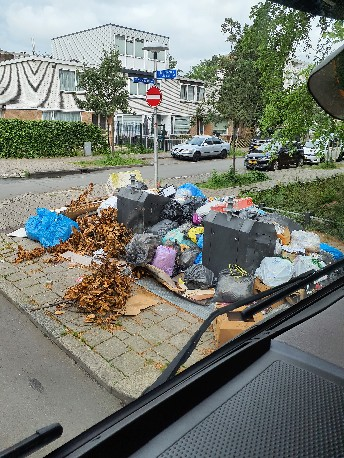Container: (206, 210, 277, 272), (109, 187, 169, 223)
GFT: (68, 273, 155, 331), (72, 220, 129, 265), (69, 190, 98, 218)
Rest: (256, 254, 289, 327), (195, 269, 236, 312), (165, 237, 190, 302), (173, 179, 210, 221), (293, 223, 323, 263), (133, 231, 157, 277), (155, 223, 194, 229)
Voertuig: (177, 130, 241, 169), (248, 146, 307, 166)
